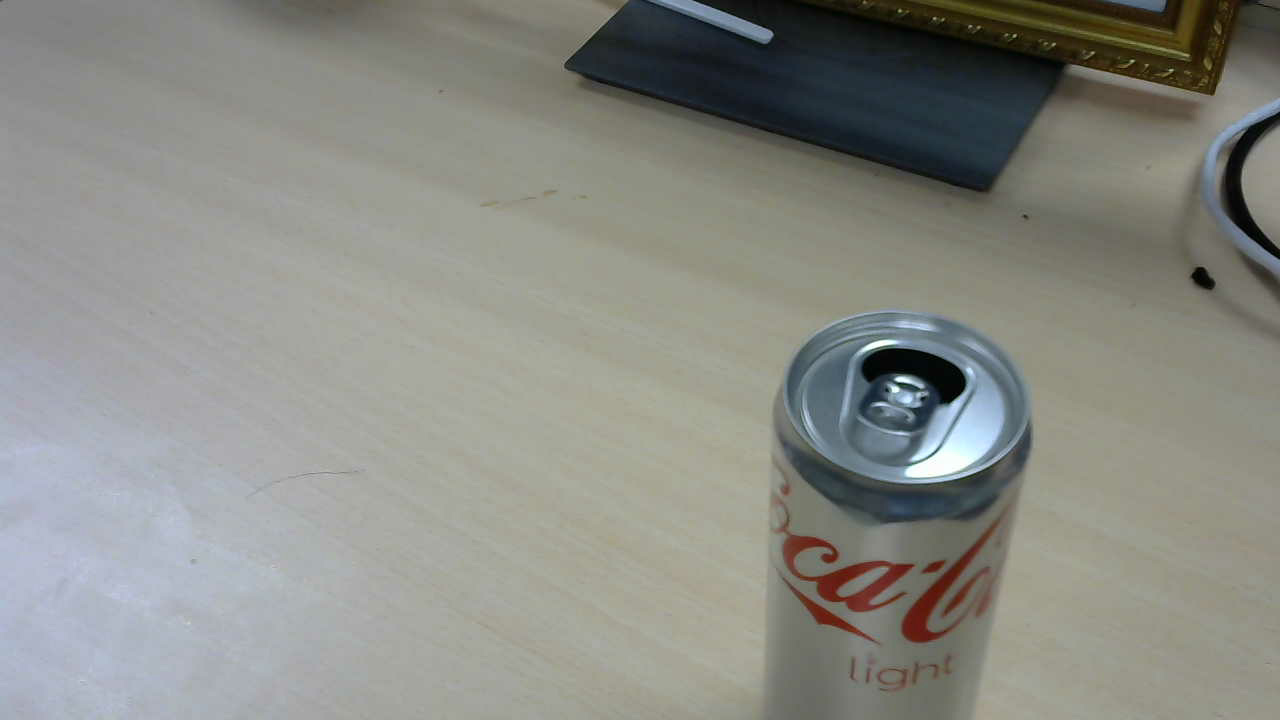Coca_Cola: (765, 314, 1041, 720)
